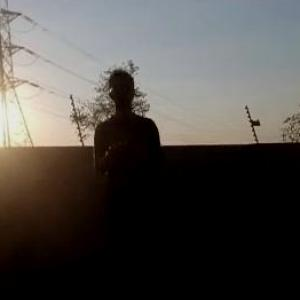follow: (88, 56, 189, 299)
